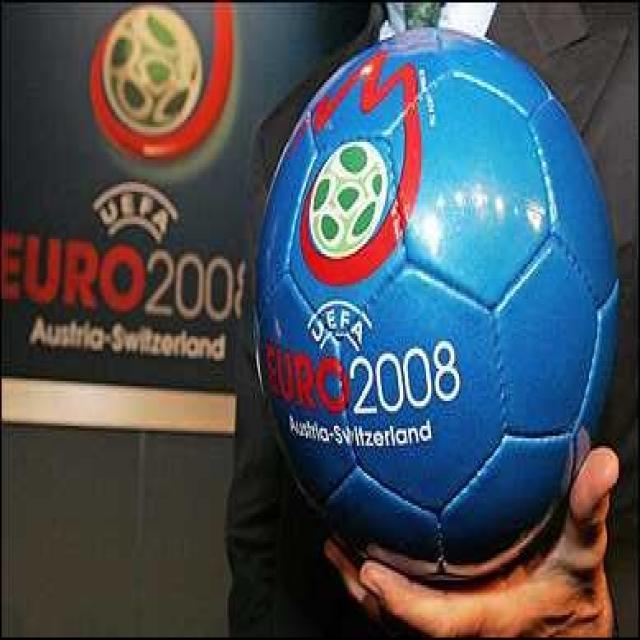ball: (252, 26, 621, 590)
